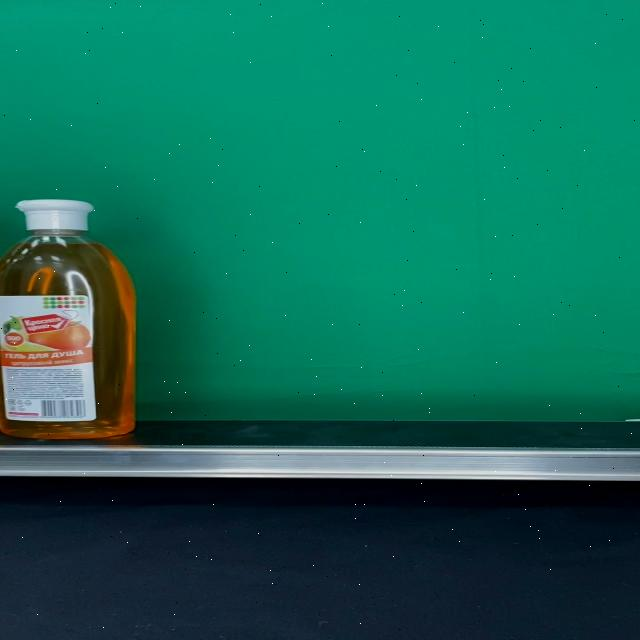Bottle: (0, 199, 137, 439)
Cap: (15, 199, 94, 231)
